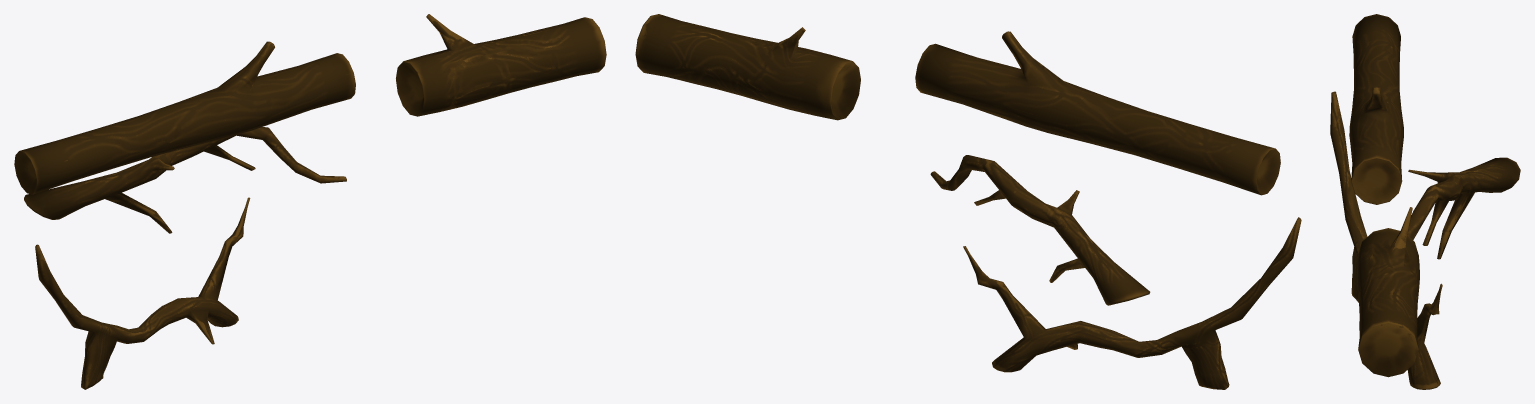
The model's file is TreeTrunk.gltf.
The picture shows the model from 3 angles, left to right: view 1: azimuth 30°, elevation 25°; view 2: azimuth 150°, elevation 25°; view 3: azimuth 270°, elevation 25°; orthographic projection. The views are drawn at different scales.
Parts seen in each view (by area): view 1: Tree2_low, Tree1_low, Tree4_low, Tree3_low; view 2: Tree2_low, Tree1_low, Tree4_low, Tree3_low; view 3: Tree2_low, Tree1_low, Tree3_low, Tree4_low.
Part boxes in pixels (x1,y1,x2,y2): Tree2_low: [14, 41, 355, 194]; Tree1_low: [396, 14, 606, 116]; Tree4_low: [35, 197, 250, 389]; Tree3_low: [24, 127, 346, 233]; Tree2_low: [915, 31, 1280, 195]; Tree1_low: [635, 14, 860, 120]; Tree4_low: [963, 217, 1301, 389]; Tree3_low: [930, 155, 1150, 305]; Tree2_low: [1349, 14, 1403, 204]; Tree1_low: [1357, 207, 1419, 377]; Tree3_low: [1407, 157, 1520, 259]; Tree4_low: [1330, 91, 1442, 389].
Size of the model in its own units: 15.49 by 7.44 by 4.12.
Materials: 1 (1 with a texture image).
